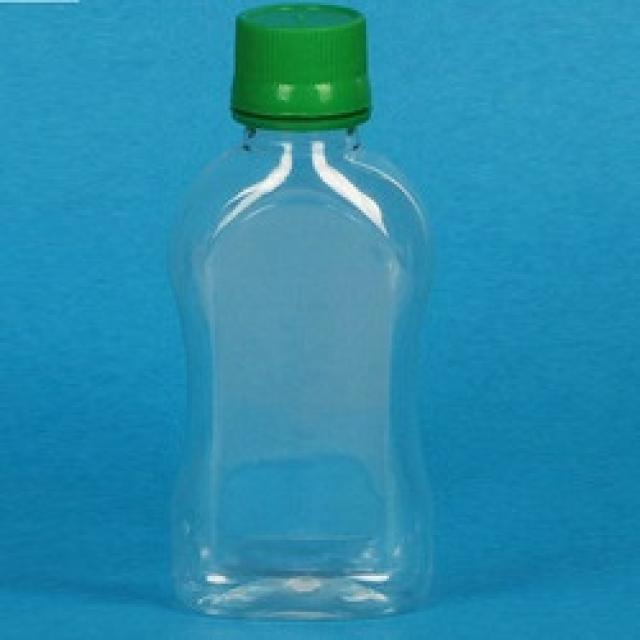plastic_bottle: (166, 0, 438, 622)
